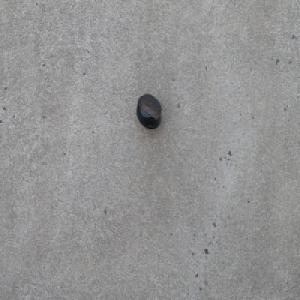FuelCap: (135, 92, 162, 131)
